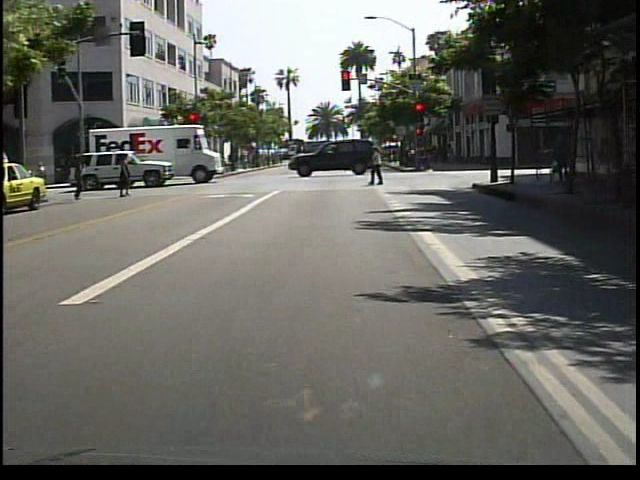person: (551, 136, 577, 192), (112, 153, 135, 201), (368, 144, 392, 189), (69, 155, 91, 204)
